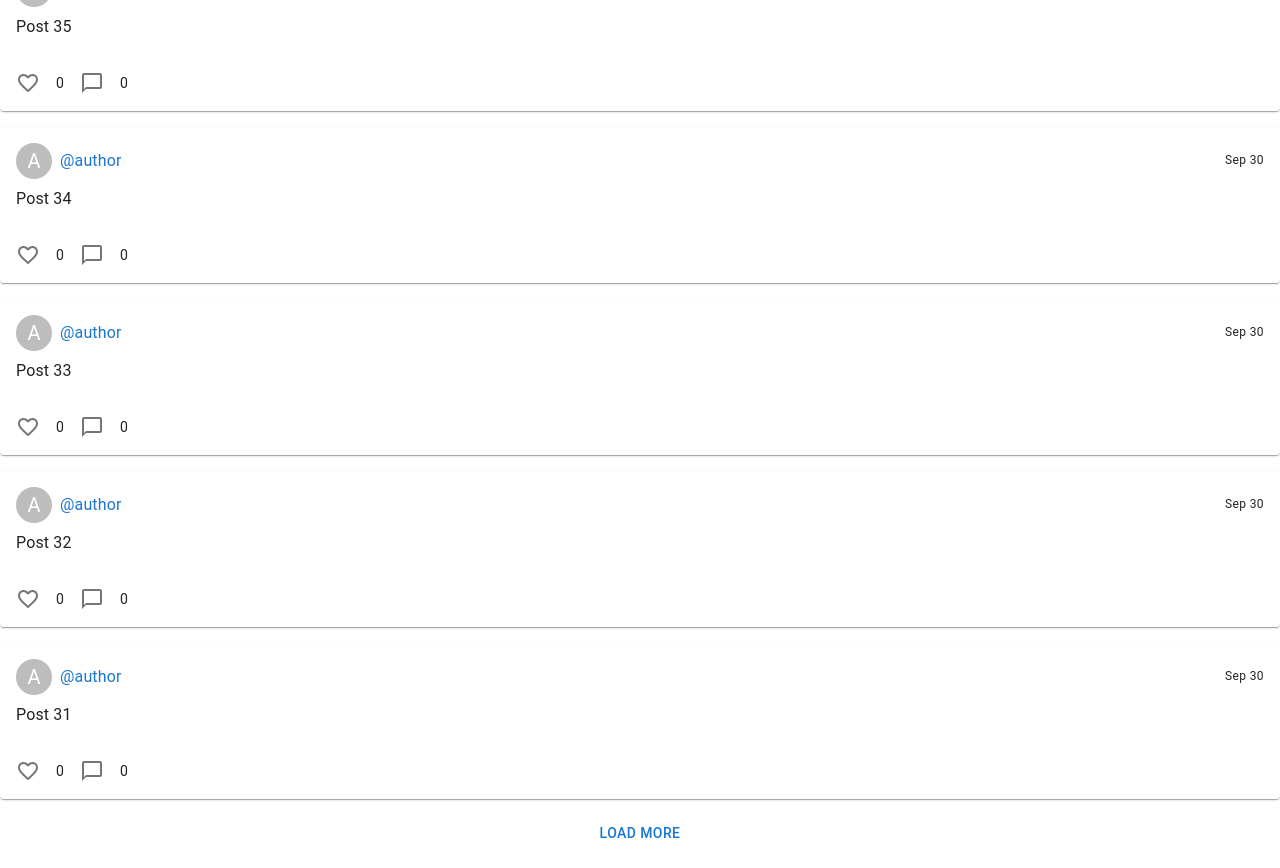
Feed › loads older posts with a cursor and hides the button on the last page
(page scrolled)
Check: the text "Post 31" is shown, box [16, 705, 72, 724]
Click the button "Load more": x=640, y=833 [592, 815, 688, 852]
(page scrolled)
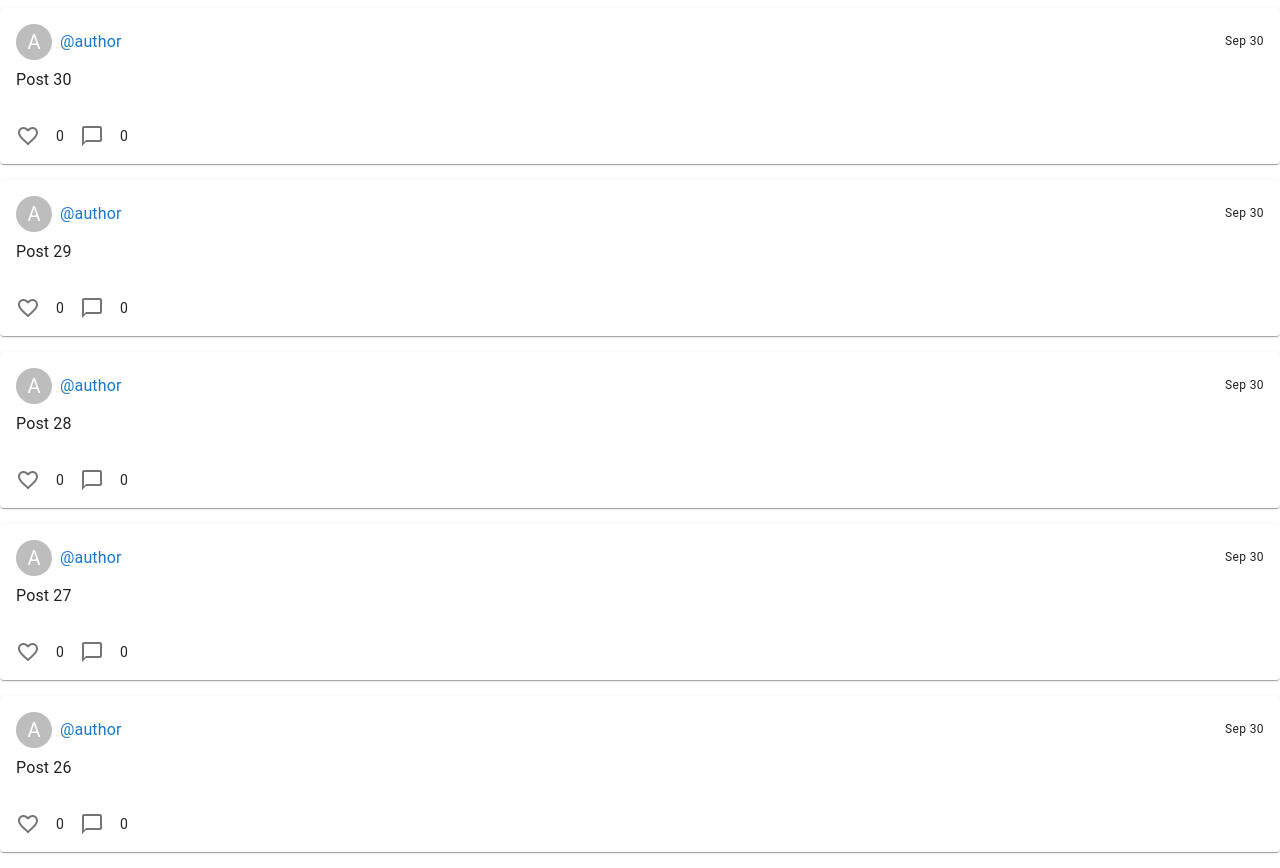
Check: the text "Post 26" is shown, box [16, 758, 72, 777]
Check: the button "Load more" is gone
